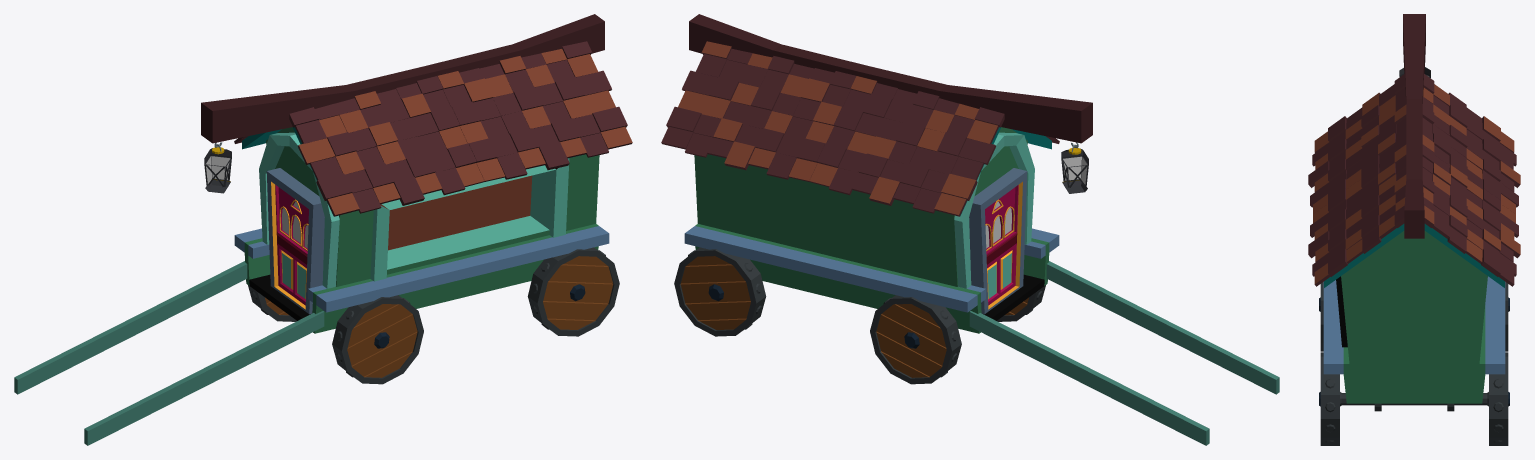
Rendered from SM_Cart_01_A.gltf.
3 renders of one model, left to right at view 1: azimuth 30°, elevation 25°; view 2: azimuth 150°, elevation 25°; view 3: azimuth 270°, elevation 25°, orthographic.
Visible parts, largest first — view 1: SM_Cart_01_A; view 2: SM_Cart_01_A; view 3: SM_Cart_01_A.
Part boxes in pixels (x1,y1,x2,y2): SM_Cart_01_A: (14, 14, 632, 445); SM_Cart_01_A: (661, 14, 1279, 445); SM_Cart_01_A: (1308, 14, 1520, 445).
Size of the model in its own units: 8.45 by 4.03 by 2.86.
